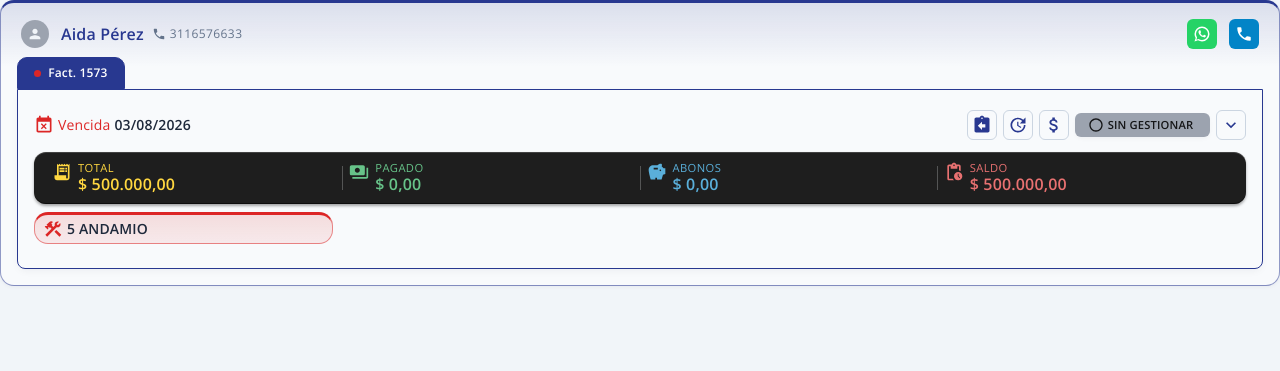
Test case: ClienteSeguimientoCard — lo que muestra › no muestra lo que el cliente había devuelto en plazo
Click the button named "Mostrar factura" at (1231, 125), box top-left (1216, 110), bottom-right (1246, 140)
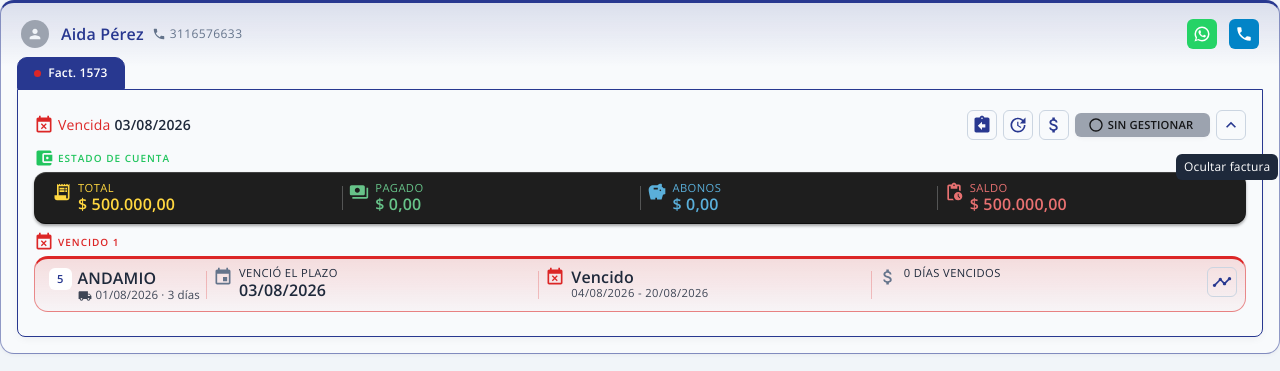
expect the text "ANDAMIO 01/08/2026 · 3 días" is shown: met, box top-left (78, 268), bottom-right (200, 303)
